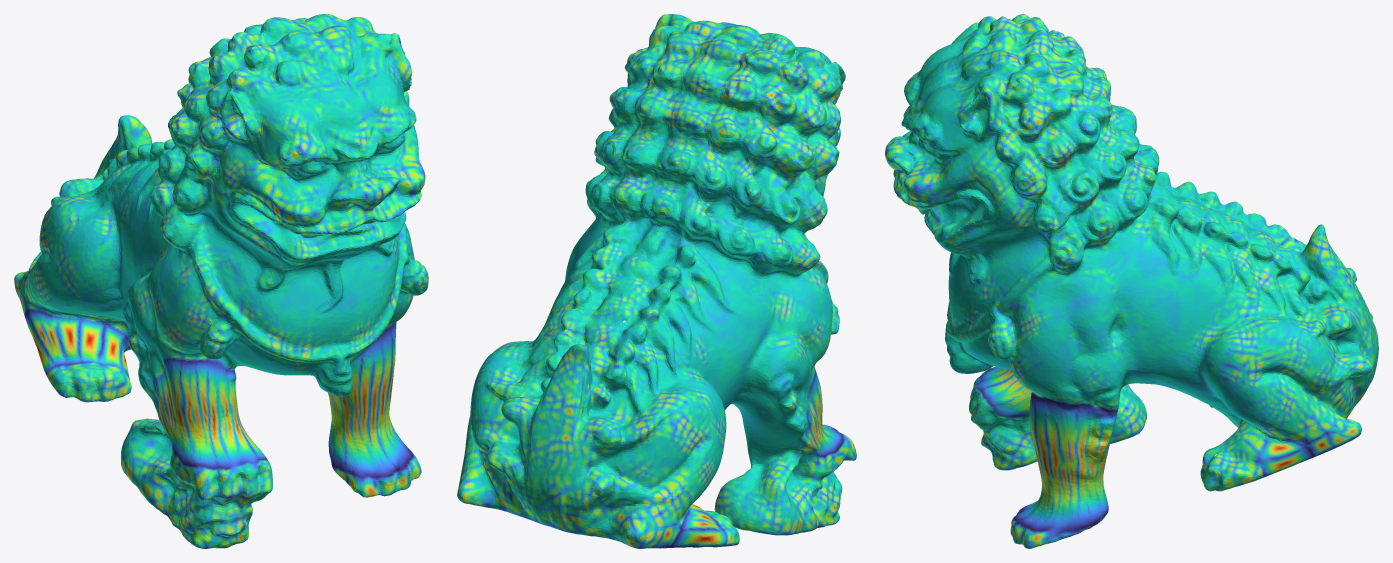
File: gen2.glb
The picture shows the model from 3 angles, left to right: view 1: azimuth 30°, elevation 25°; view 2: azimuth 150°, elevation 25°; view 3: azimuth 270°, elevation 25°; orthographic projection. The views are drawn at different scales.
Visible parts, largest first — view 1: Node; view 2: Node; view 3: Node.
Boxes of the visible parts, x1,y1,x2,y2 form: Node: (14, 14, 428, 548); Node: (457, 14, 856, 548); Node: (885, 14, 1378, 548).
Bounding box in the file's own units: 61.63 × 113 × 109.
Materials: 1 (1 with a texture image).
